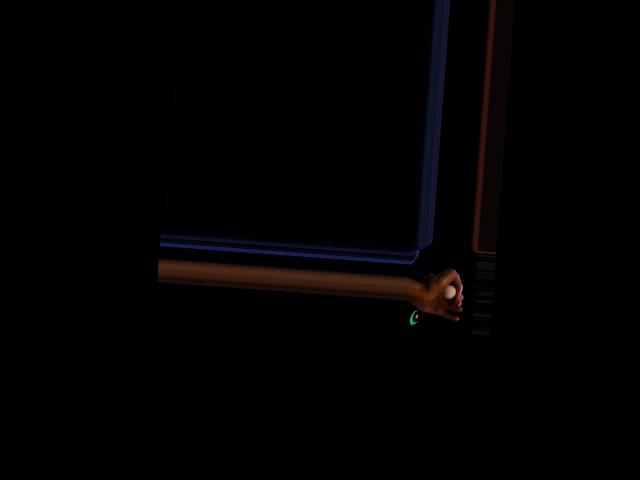egg: (444, 284, 456, 299)
